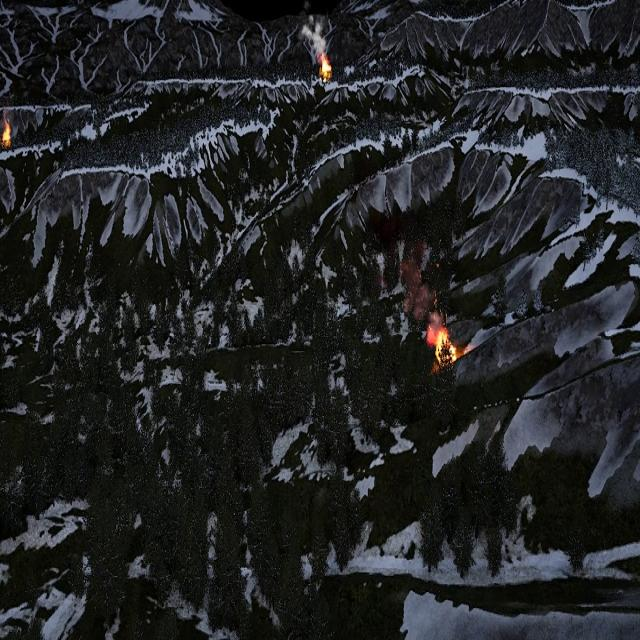fire: (434, 328, 459, 365), (1, 124, 11, 145), (323, 57, 333, 76)
smoke: (401, 250, 448, 343), (299, 16, 330, 62)
